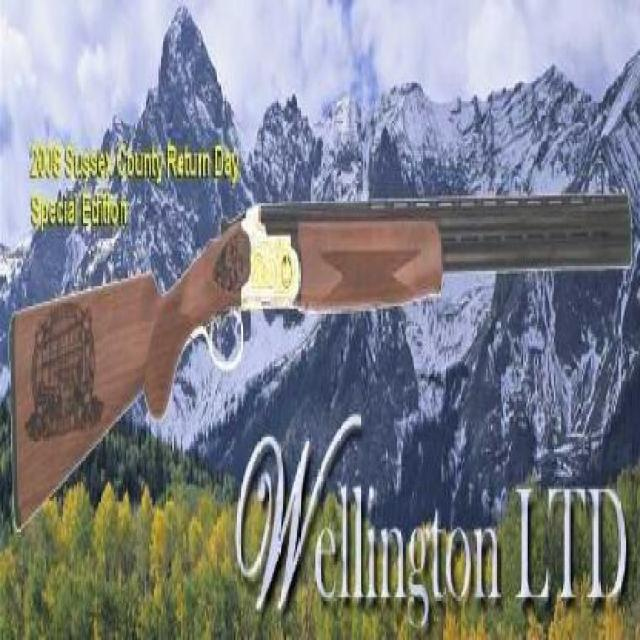weapon: (10, 190, 637, 532)
